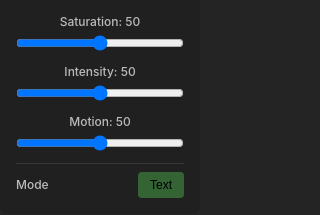
Test: Controls Component › Test 8.4: Text/Visual mode toggle switches between modes › clicking toggle switches from text to visual mode
Step 1. Click the button with test id "mode-toggle" → (161, 184), box x1=138 y1=172 x2=184 y2=198
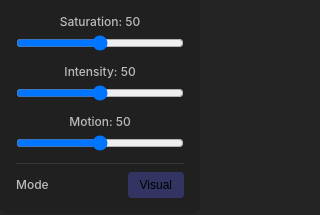
expect the button with test id "mode-toggle" reads "visual": met, box x1=128 y1=172 x2=184 y2=198
